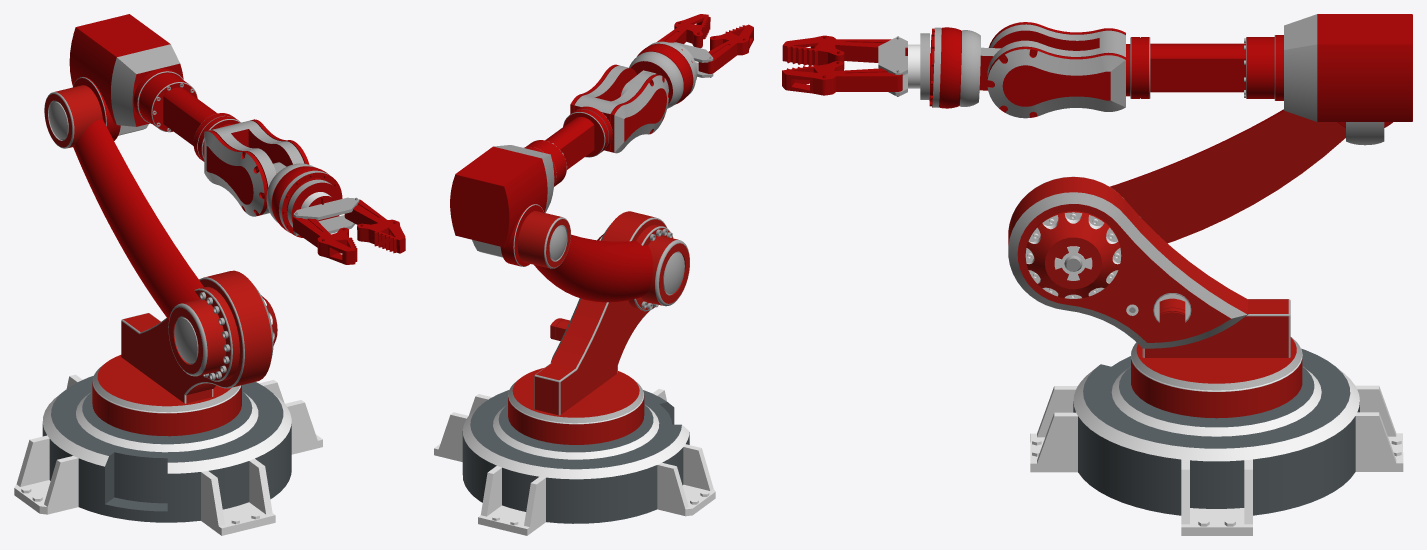
Rendered from RobotArm.glb.
3 renders of one model, left to right at view 1: azimuth 30°, elevation 25°; view 2: azimuth 150°, elevation 25°; view 3: azimuth 270°, elevation 25°, orthographic. The views are drawn at different scales.
Visible parts, largest first — view 1: Solid1, Solid1.002, Solid1.001, Solid1.003, Solid1.004, Solid1.006, Solid1.005, Solid1.008, Solid1.007; view 2: Solid1, Solid1.001, Solid1.003, Solid1.002, Solid1.004, Solid1.005, Solid1.007, Solid1.008, Solid1.006; view 3: Solid1, Solid1.001, Solid1.003, Solid1.002, Solid1.004, Solid1.005, Solid1.008, Solid1.007, Solid1.006.
Part boxes in pixels (left/top/right/bottom): Solid1: left=14, top=374, right=322, bottom=535; Solid1.002: left=44, top=85, right=239, bottom=381; Solid1.001: left=92, top=270, right=277, bottom=436; Solid1.003: left=69, top=14, right=240, bottom=161; Solid1.004: left=204, top=119, right=309, bottom=216; Solid1.006: left=287, top=179, right=359, bottom=235; Solid1.005: left=266, top=162, right=342, bottom=237; Solid1.008: left=344, top=199, right=405, bottom=253; Solid1.007: left=293, top=215, right=357, bottom=264; Solid1: left=434, top=389, right=715, bottom=535; Solid1.001: left=508, top=211, right=666, bottom=444; Solid1.003: left=450, top=106, right=612, bottom=266; Solid1.002: left=517, top=211, right=689, bottom=311; Solid1.004: left=570, top=64, right=668, bottom=153; Solid1.005: left=618, top=41, right=695, bottom=108; Solid1.007: left=698, top=24, right=753, bottom=73; Solid1.008: left=657, top=14, right=710, bottom=48; Solid1.006: left=669, top=42, right=713, bottom=79; Solid1: left=1030, top=348, right=1403, bottom=535; Solid1.001: left=1008, top=176, right=1302, bottom=418; Solid1.003: left=1130, top=14, right=1412, bottom=145; Solid1.002: left=1110, top=109, right=1345, bottom=243; Solid1.004: left=987, top=22, right=1130, bottom=118; Solid1.005: left=929, top=27, right=1000, bottom=108; Solid1.008: left=782, top=61, right=902, bottom=95; Solid1.007: left=782, top=35, right=891, bottom=68; Solid1.006: left=878, top=33, right=929, bottom=99.
Size of the model in its own units: 0.3907 by 0.5079 by 0.6607.
